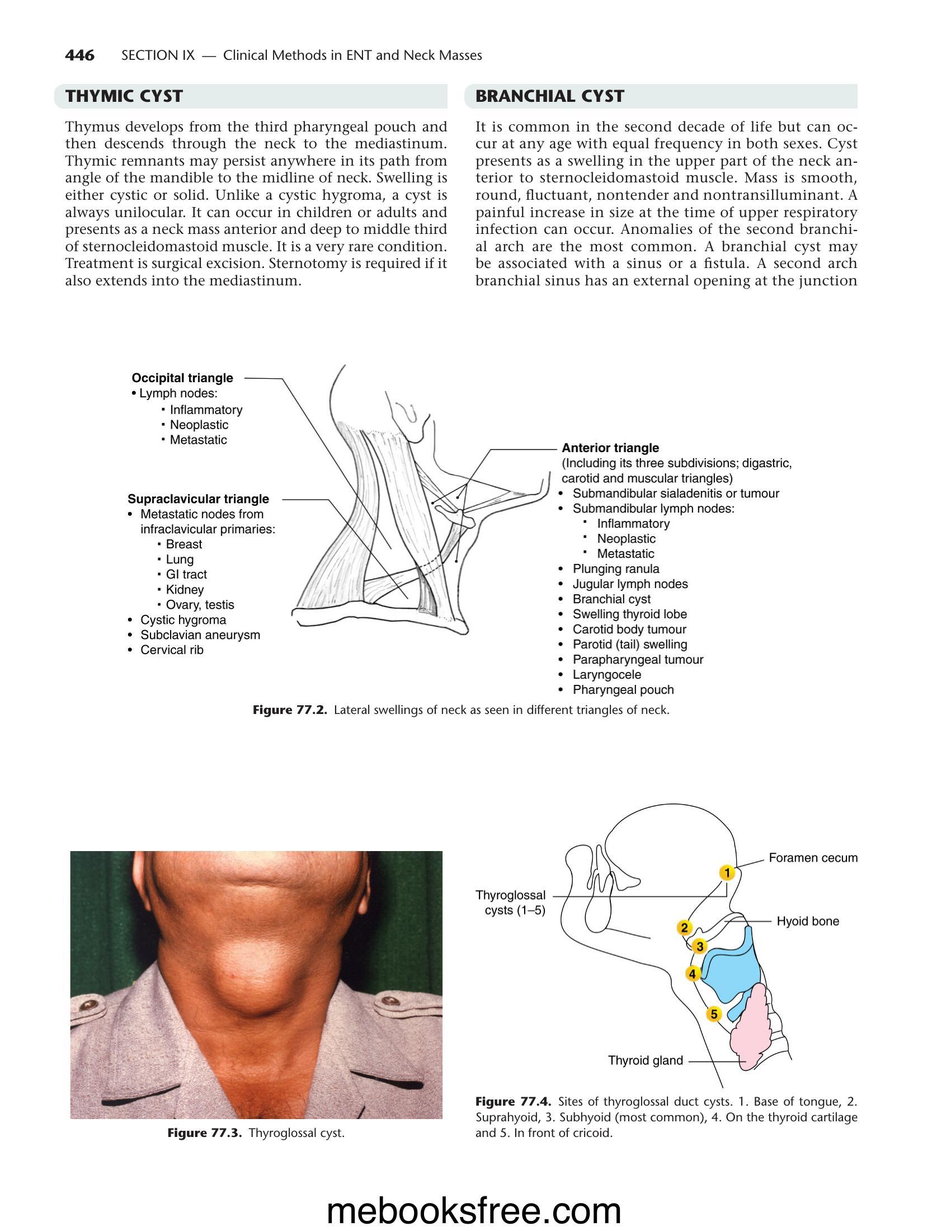caption: (475, 1095, 860, 1138), (251, 704, 671, 719), (166, 1127, 345, 1141)
header: (119, 48, 484, 62)
image: (110, 342, 813, 702), (464, 790, 881, 1092), (70, 850, 443, 1120)
section-heading: (474, 87, 627, 105), (63, 87, 186, 104)
text: (474, 119, 859, 292), (63, 119, 449, 288)
